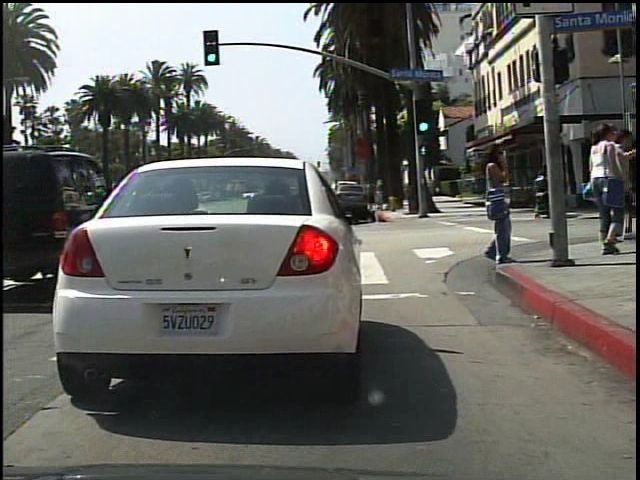person: (466, 140, 526, 269), (584, 121, 635, 256)
